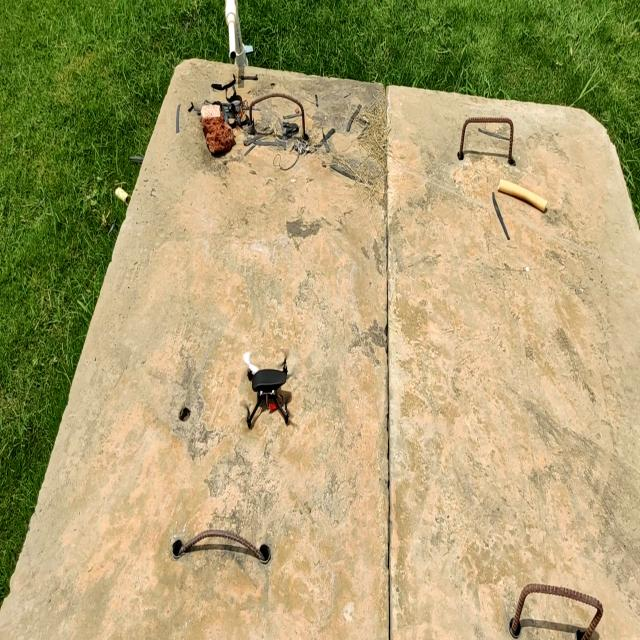drone: (224, 343, 312, 437)
